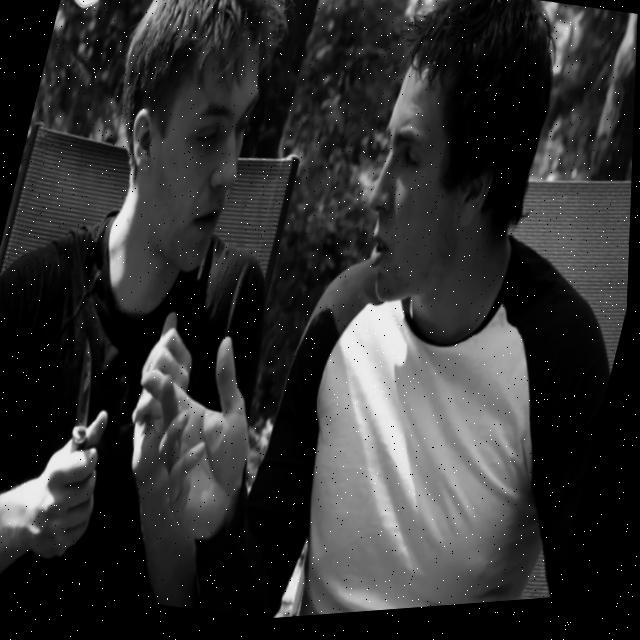knife: (53, 325, 123, 450)
